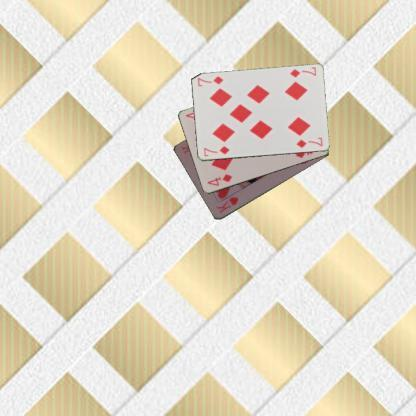4d: (204, 172, 234, 188)
7d: (201, 143, 231, 158), (287, 64, 317, 78)
Kh: (213, 195, 240, 215)
